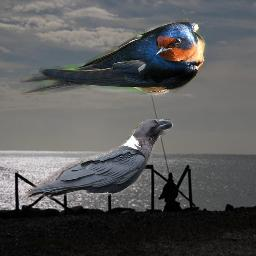Crow: (25, 119, 173, 199)
Swallow: (20, 20, 207, 95)
